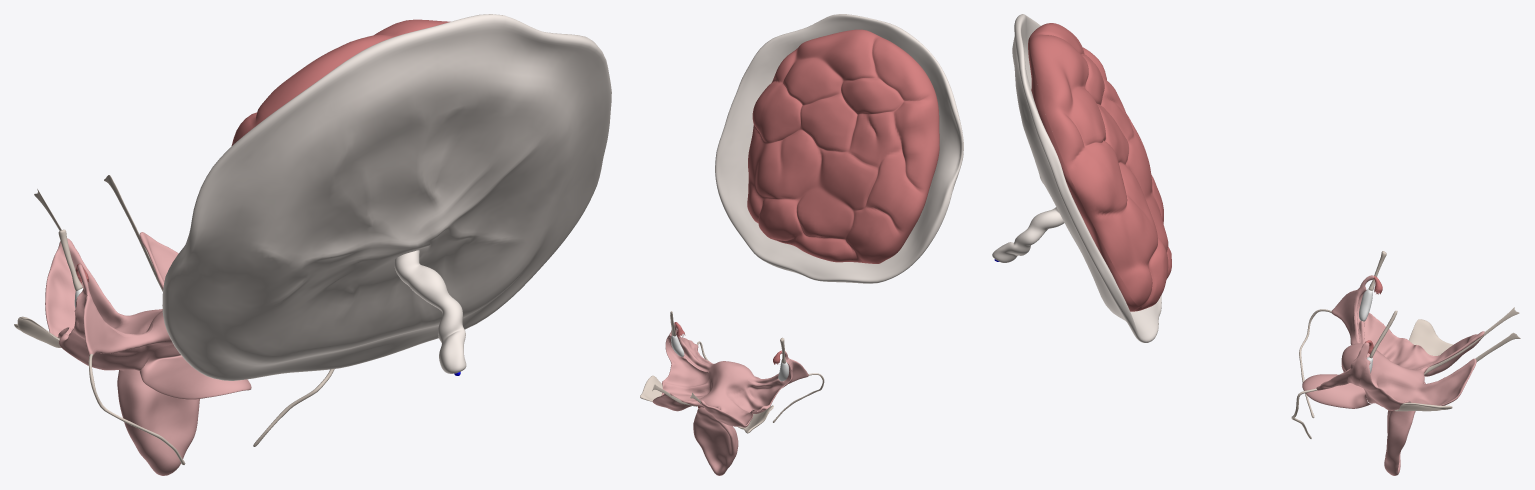
File: female_reproductive.glb
The picture shows the model from 3 angles, left to right: view 1: azimuth 30°, elevation 25°; view 2: azimuth 150°, elevation 25°; view 3: azimuth 270°, elevation 25°; orthographic projection. The views are drawn at different scales.
Parts seen in each view (by area): view 1: VH_F_amnion, VH_F_broad_ligament, VH_F_vagina, VH_F_basal_plate, VH_F_umbilical_cord, VH_F_uterovesical_pouch, VH_F_mesosalpinx_R, VH_F_right_cardinal_ligament_of_uterus; view 2: VH_F_basal_plate, VH_F_amnion, VH_F_broad_ligament, VH_F_vagina, VH_F_cervicovaginal_junction, VH_F_left_cardinal_ligament_of_uterus, VH_F_mesosalpinx_L; view 3: VH_F_basal_plate, VH_F_broad_ligament, VH_F_amnion, VH_F_chorionic_plate, VH_F_uterovesical_pouch, VH_F_umbilical_cord, VH_F_vagina, VH_F_right_cardinal_ligament_of_uterus.
Boxes of the visible parts, x1,y1,x2,y2 form: VH_F_amnion: (162,14,611,380); VH_F_broad_ligament: (45,232,178,370); VH_F_vagina: (117,370,199,475); VH_F_basal_plate: (231,19,450,146); VH_F_umbilical_cord: (394,250,466,373); VH_F_uterovesical_pouch: (139,344,251,399); VH_F_mesosalpinx_R: (74,264,152,345); VH_F_right_cardinal_ligament_of_uterus: (14,316,60,347); VH_F_basal_plate: (747,29,938,263); VH_F_amnion: (715,14,963,283); VH_F_broad_ligament: (652,336,808,427); VH_F_vagina: (693,421,738,475); VH_F_cervicovaginal_junction: (694,407,731,428); VH_F_left_cardinal_ligament_of_uterus: (640,375,662,401); VH_F_mesosalpinx_L: (671,322,711,371); VH_F_basal_plate: (1029,23,1171,308); VH_F_broad_ligament: (1316,289,1484,410); VH_F_amnion: (1012,14,1161,342); VH_F_chorionic_plate: (1028,34,1143,311); VH_F_uterovesical_pouch: (1302,365,1372,408); VH_F_umbilical_cord: (992,207,1064,262); VH_F_vagina: (1384,410,1413,475); VH_F_right_cardinal_ligament_of_uterus: (1409,319,1452,355).
Size of the model in its own units: 0.2509 by 0.3622 by 0.3933.
